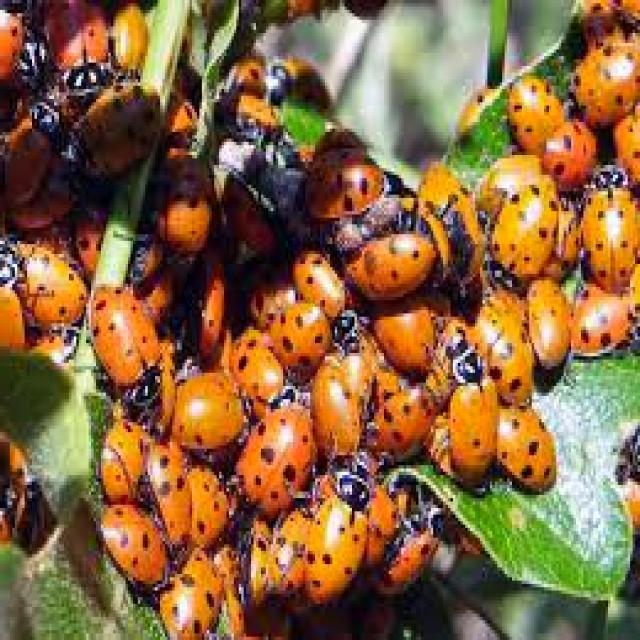ladybug: (478, 155, 578, 284), (91, 284, 175, 422), (2, 238, 89, 360), (303, 468, 369, 600), (239, 406, 318, 515), (583, 165, 640, 290), (293, 251, 362, 353), (473, 287, 534, 402), (367, 366, 438, 459), (379, 488, 443, 591), (574, 33, 640, 125), (347, 231, 438, 297), (175, 373, 246, 449), (224, 330, 286, 416), (162, 551, 224, 637), (450, 379, 500, 482), (103, 505, 170, 581), (313, 353, 362, 455), (500, 406, 556, 488), (574, 284, 635, 353), (510, 76, 564, 152), (103, 402, 145, 498), (369, 475, 414, 564), (271, 300, 330, 366), (150, 449, 192, 541), (374, 307, 436, 369), (527, 280, 571, 366), (544, 119, 598, 188), (190, 465, 229, 544), (345, 162, 384, 208)
